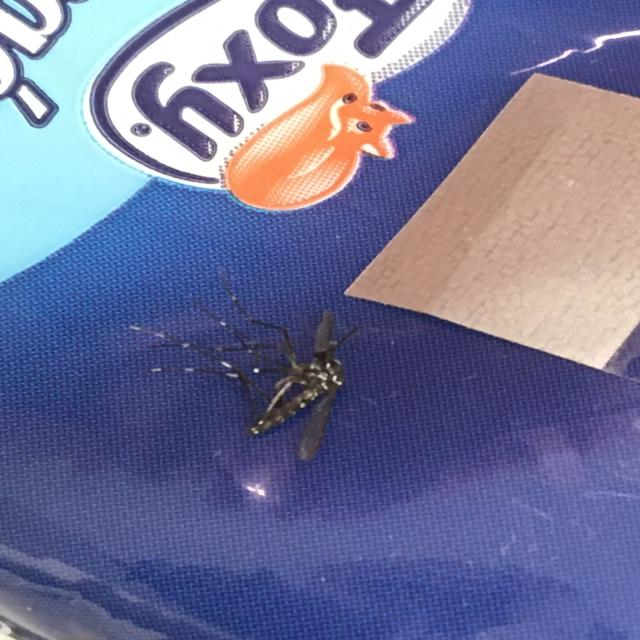albopictus: (228, 304, 376, 472)
